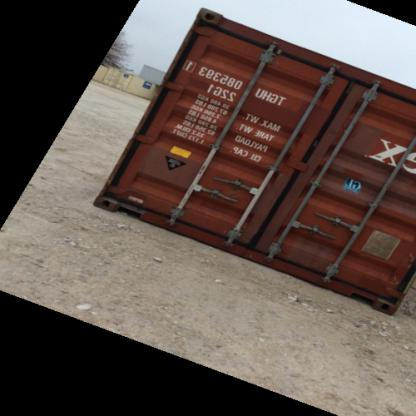Damage: (291, 235, 331, 273)
